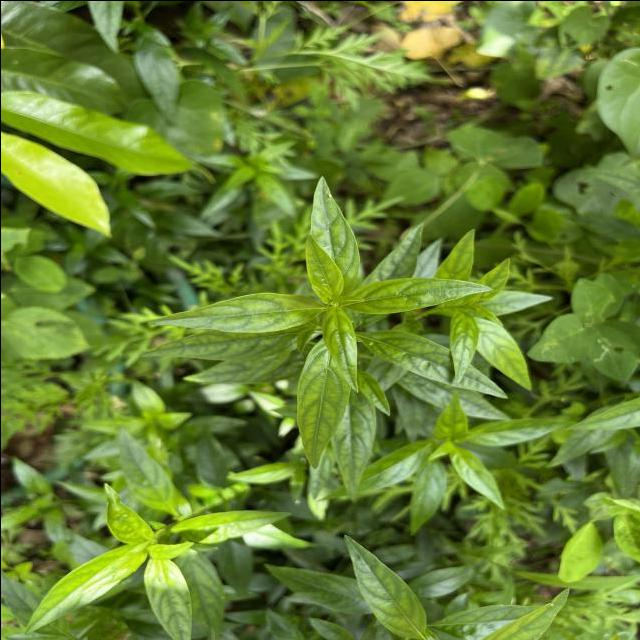Andrographis paniculata: (19, 542, 144, 636), (340, 533, 426, 640), (143, 290, 320, 334), (296, 340, 350, 468), (308, 174, 362, 286), (346, 276, 494, 316), (168, 509, 292, 544), (142, 556, 193, 640), (475, 318, 533, 391), (446, 445, 506, 510), (320, 306, 360, 393), (301, 232, 345, 304), (407, 457, 446, 536), (466, 417, 574, 445), (448, 310, 478, 380), (342, 451, 348, 453)
